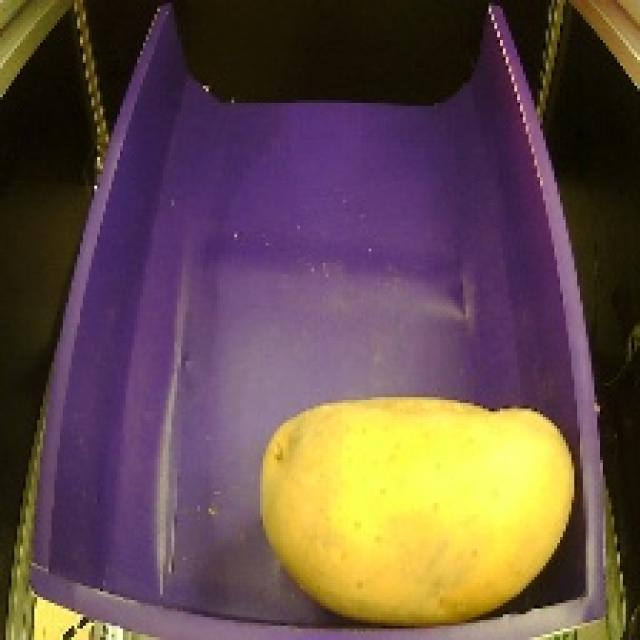full_potato: (248, 388, 584, 640)
